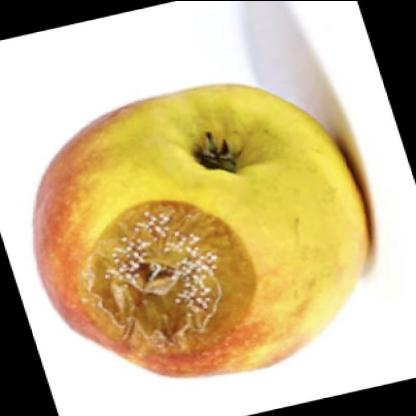defect: (78, 196, 272, 362)
